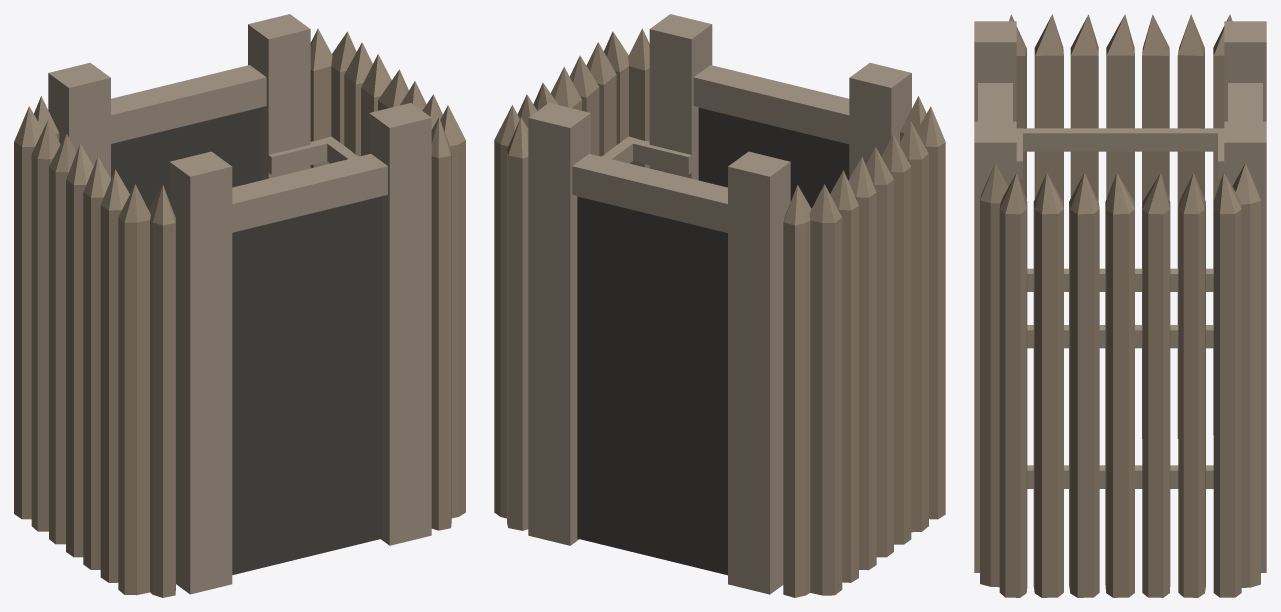
File: first_fort_covered_way_bank_upper__first_fort_1803.glb
The picture shows the model from 3 angles, left to right: view 1: azimuth 30°, elevation 25°; view 2: azimuth 150°, elevation 25°; view 3: azimuth 270°, elevation 25°; orthographic projection. The views are drawn at different scales.
Visible parts, largest first — view 1: first_fort_covered_way_bank_upper__first_fort_1803; view 2: first_fort_covered_way_bank_upper__first_fort_1803; view 3: first_fort_covered_way_bank_upper__first_fort_1803.
Boxes of the visible parts, x1=… form: first_fort_covered_way_bank_upper__first_fort_1803: x1=14, y1=14, x2=465, y2=597; first_fort_covered_way_bank_upper__first_fort_1803: x1=494, y1=14, x2=945, y2=597; first_fort_covered_way_bank_upper__first_fort_1803: x1=974, y1=14, x2=1266, y2=597.
Bounding box in the file's own units: 3.25 × 3.8 × 2.34.
